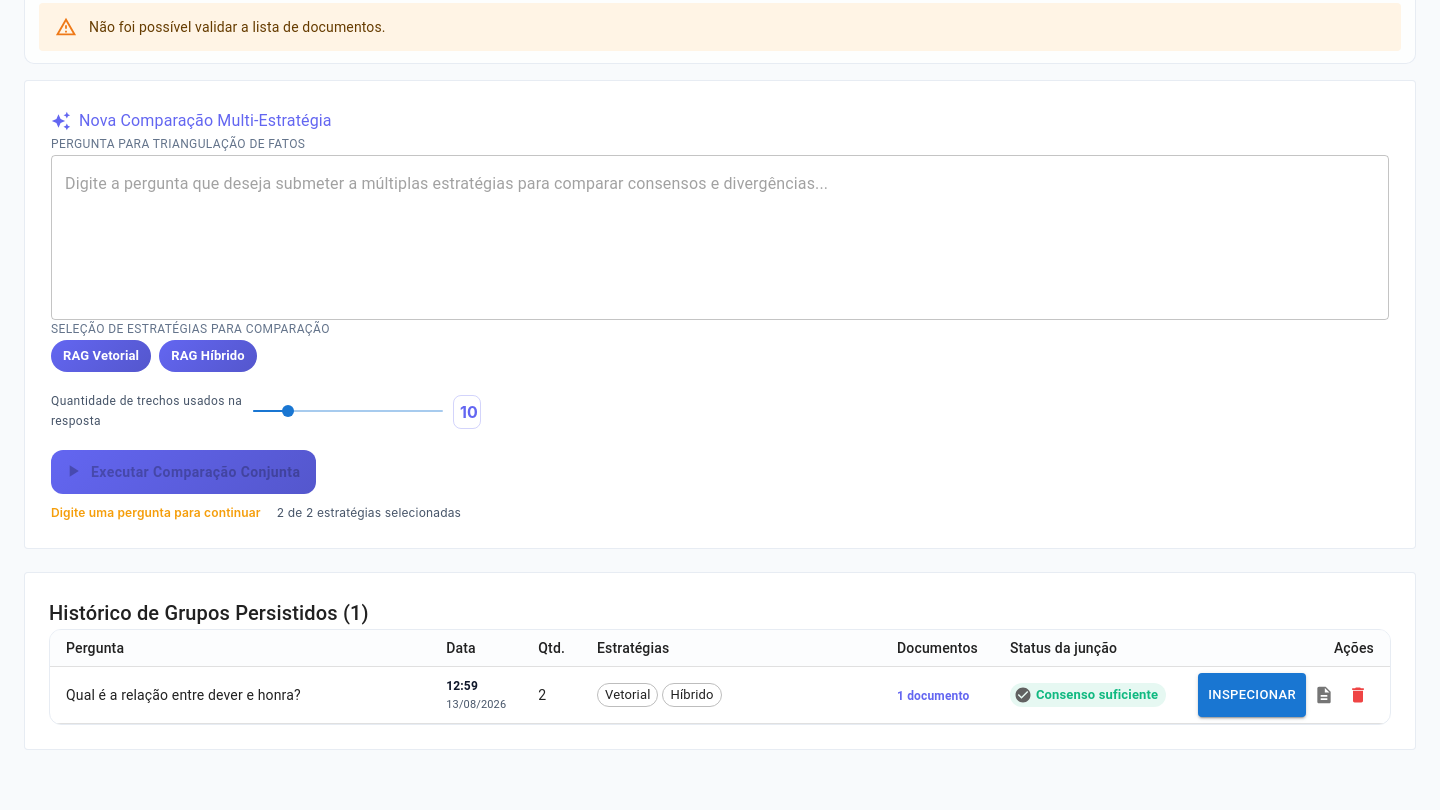
Scenario: exclusão de grupos persistidos › exclui o grupo após confirmação e remove a linha do histórico
This screenshot has width=1440, height=810.
(page scrolled)
Step 1. Click the button named "Excluir comparação" → (1358, 695), box [1342,673,1374,717]
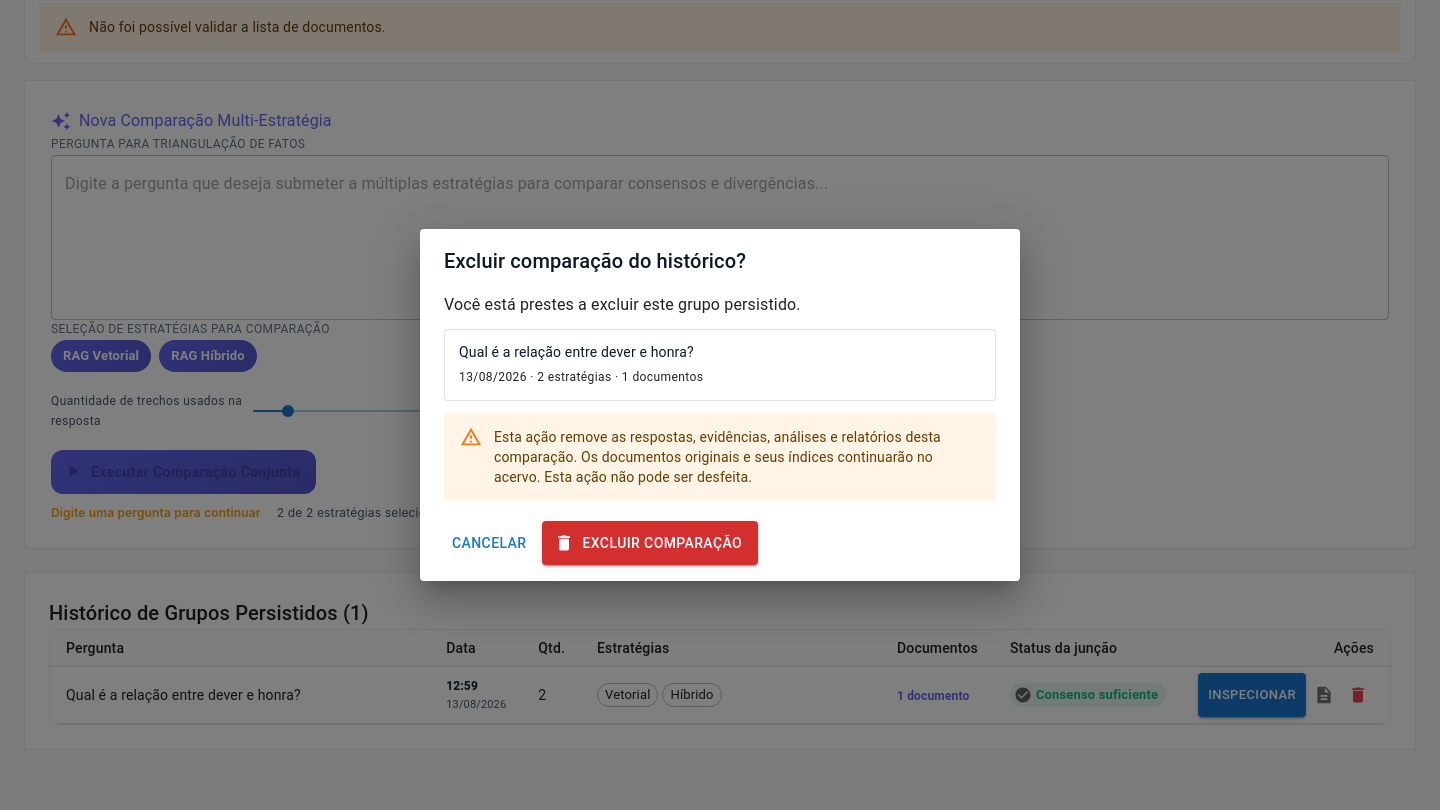
Step 2. Click the button "Excluir comparação" → (650, 543), box [542,521,758,565]
(page scrolled)
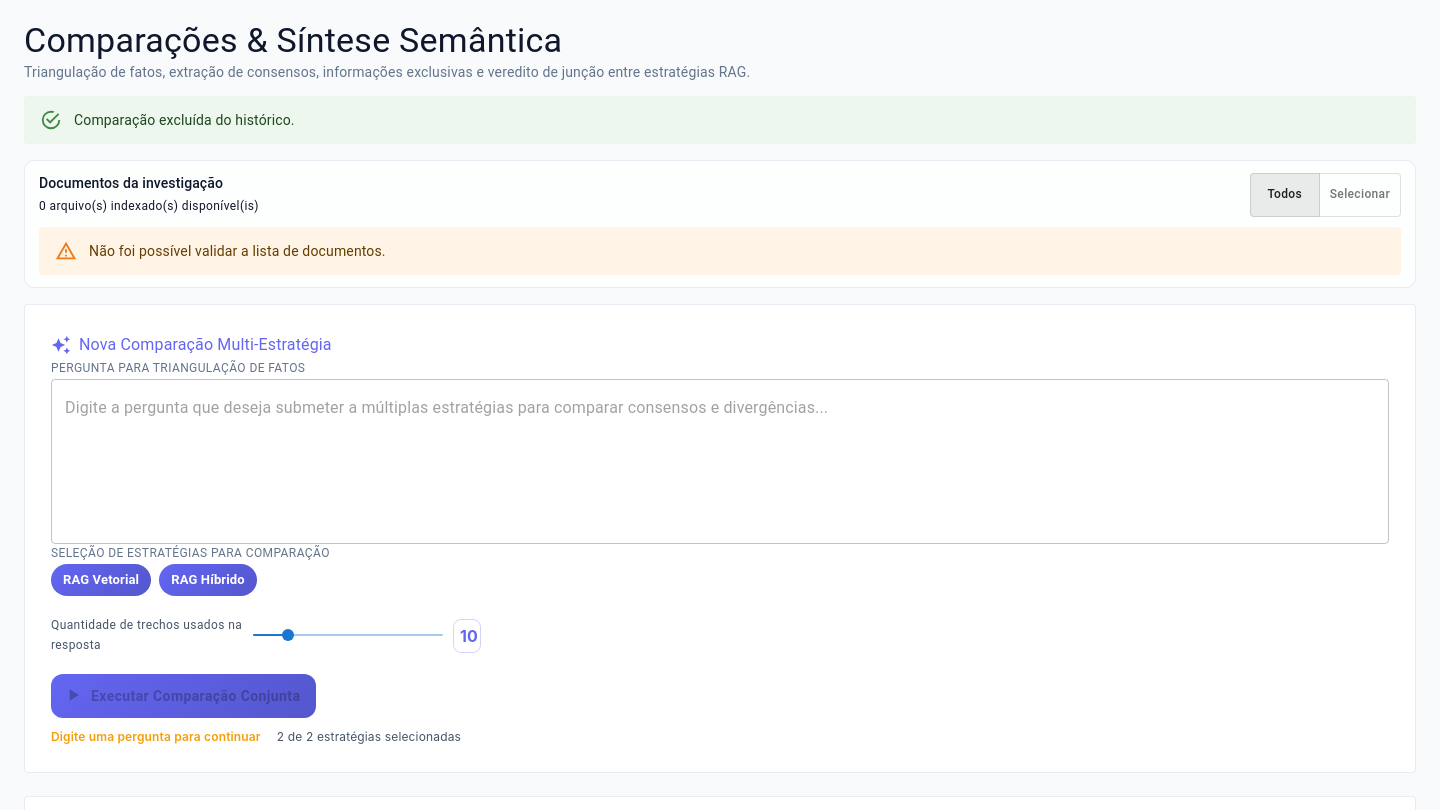
Expected: the text "Qual é a relação entre dever e honra?" is gone
Expected: the text "Comparação excluída do histórico." is shown, [74,112,295,128]
